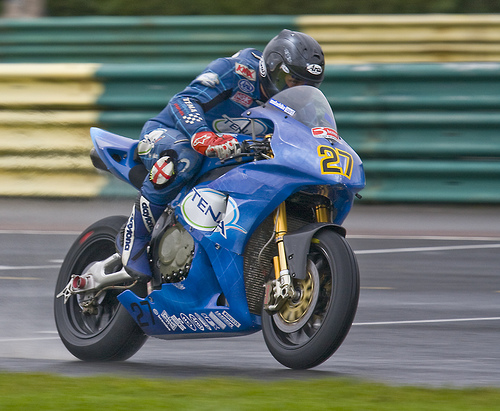helmet: (263, 34, 327, 85)
